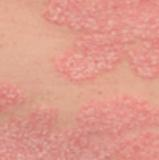plaque psoriasis: (0, 61, 159, 160), (39, 0, 159, 98), (0, 63, 17, 129)
